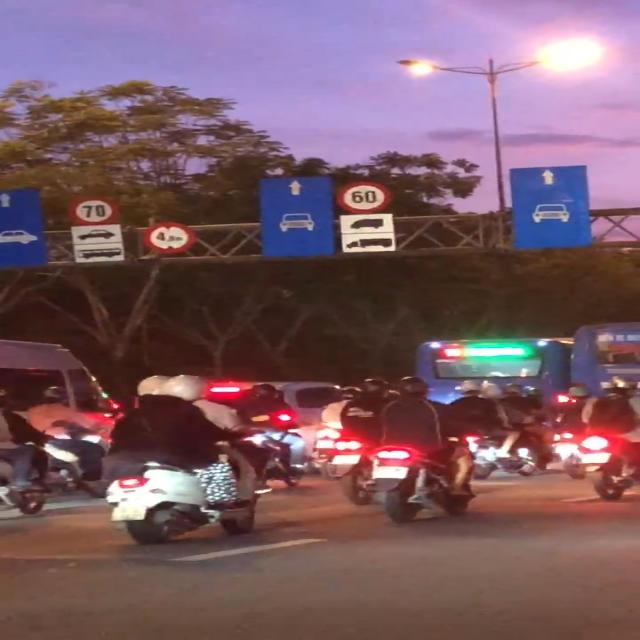Bien bao han che chieu cao: (142, 222, 202, 258)
Bien bao toc do toi da cho phep: (334, 180, 399, 217), (64, 192, 127, 228)
